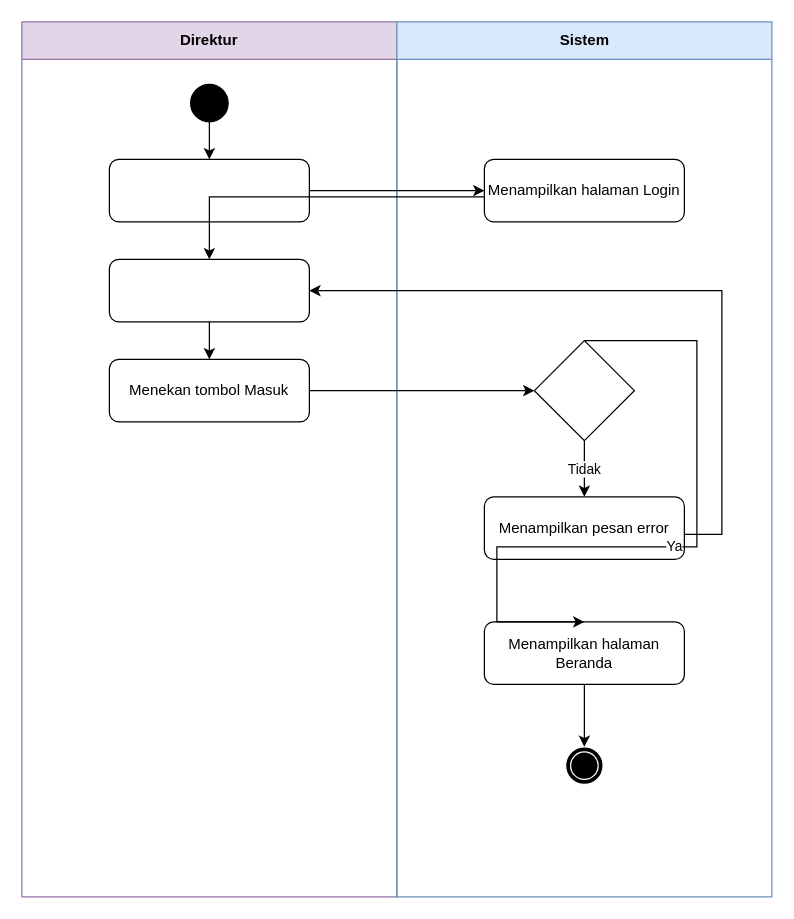
The diagram is 794 pixels wide and 919 high, and some of its shapes have lost their labels. Each missing label, with the centre of its shape:
Data Valid?: point 583,390
Memasukkan email dan password: point 208,290
Membuka halaman website CRM: point 208,190
